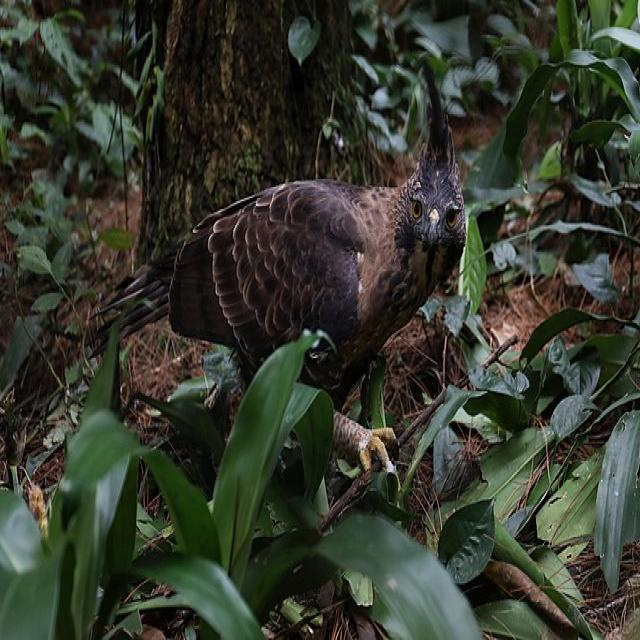Elang Jawa: (80, 44, 489, 495)
